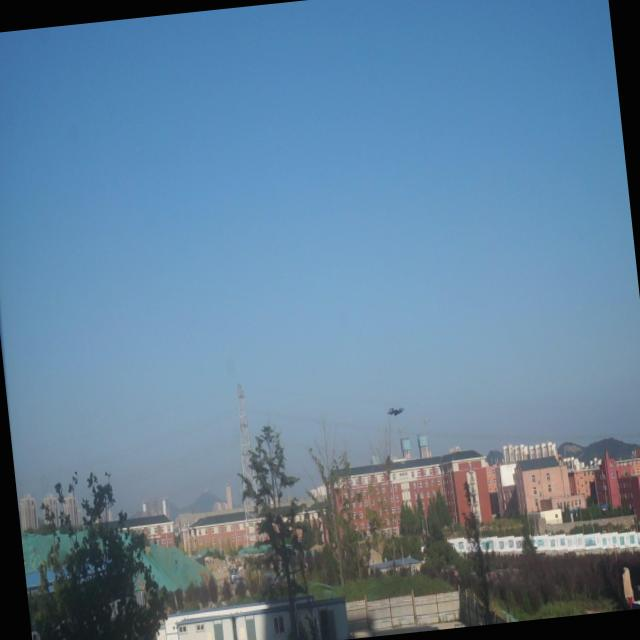drone: (384, 399, 407, 423)
